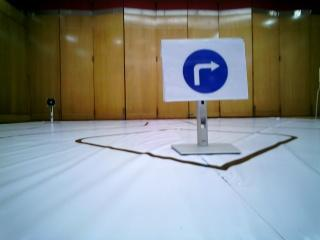right: (165, 41, 247, 100)
